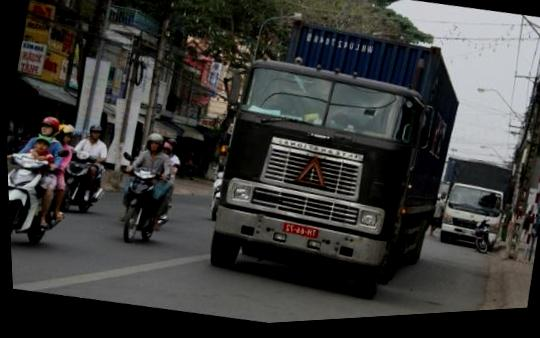License_Plate: (285, 219, 320, 243)
